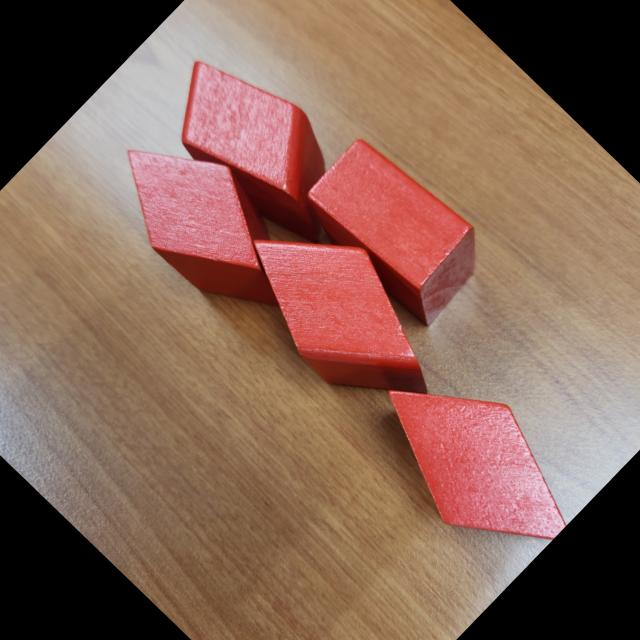red: (216, 188, 470, 440), (347, 337, 598, 586), (143, 33, 380, 267), (90, 108, 326, 342), (290, 126, 500, 334)
